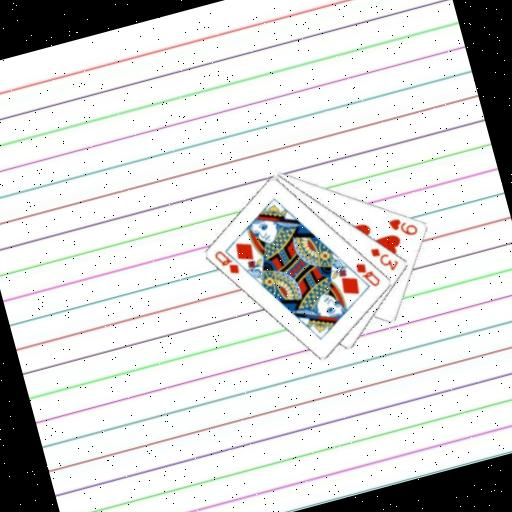3D: (366, 239, 402, 277)
9H: (385, 210, 421, 242)
QD: (210, 243, 243, 281), (352, 255, 383, 292)
